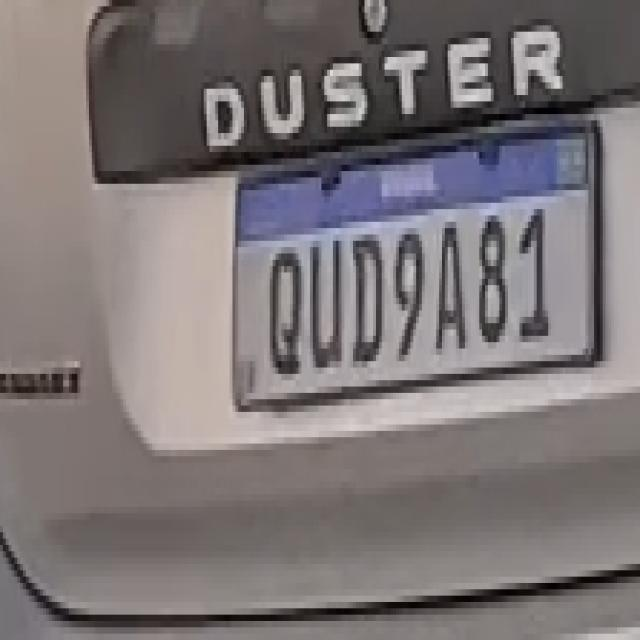Placa_mercosul_carro: (234, 122, 600, 410)
